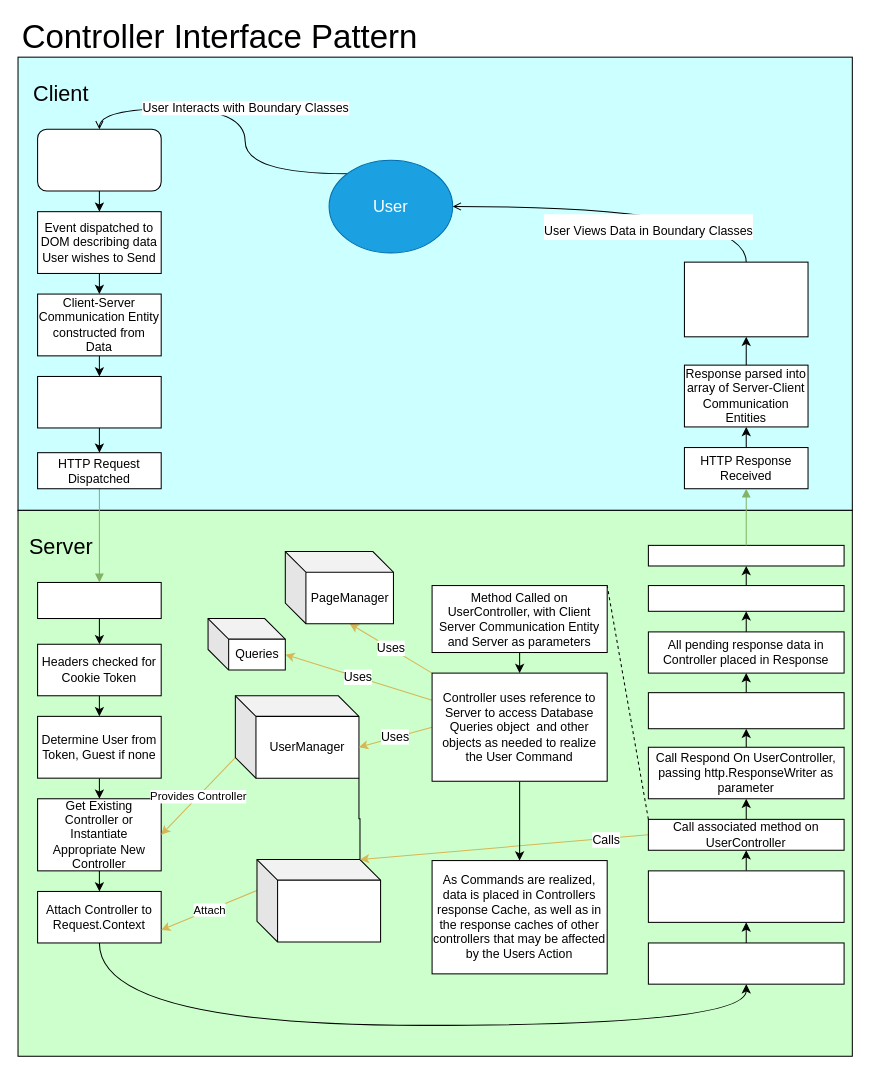
The diagram is 870 pixels wide and 1074 high, and some of its shapes have lost their labels. Here are the shapes that lost their labels. From the top down, the centre of each, then its label:
the point at 99,159: User Performs Action Requiring Communication with Server
the point at 745,299: Data in Server-Client Communication Entities is used to update Boundary classes
the point at 99,401: Entity converted to JSON string, Request Built
the point at 745,555: HTTP Response Dispatched
the point at 99,600: HTTP Request Received
the point at 745,598: Pending Response Data cleared
the point at 745,710: Token refreshed and written to Response Header as Cookie
the point at 318,900: UserController
the point at 745,896: Extract Client-Server Communication Entity from HTTP Request Body
the point at 745,963: Appropriate API End Point Function called
